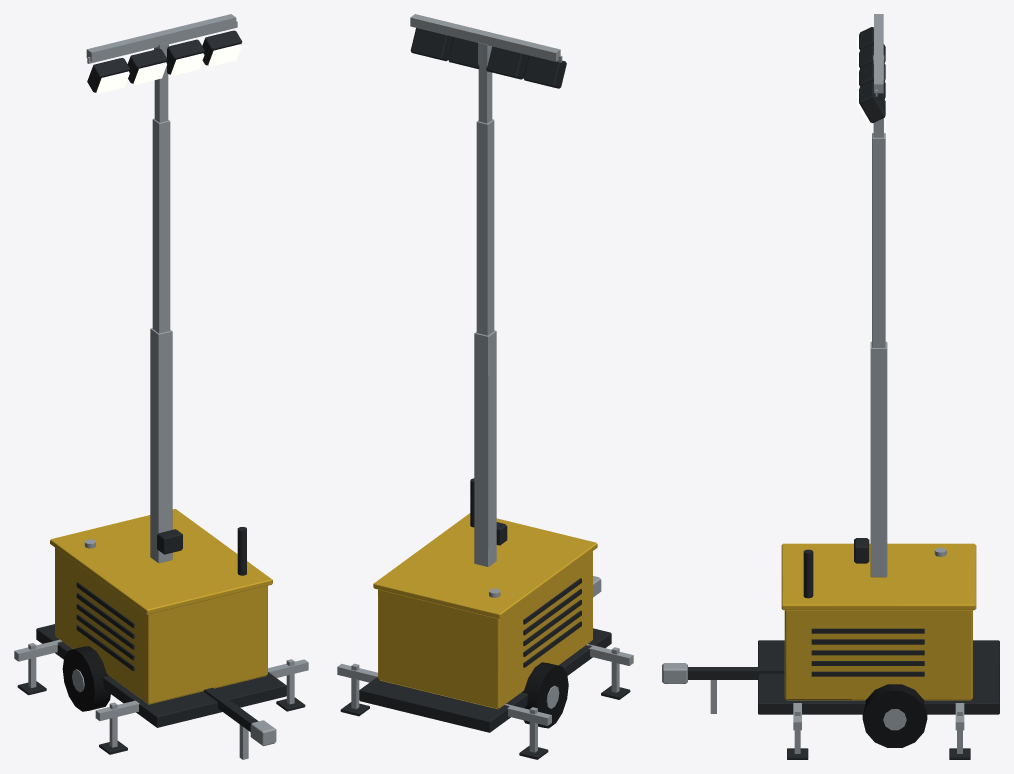
The model's file is light-tower.glb.
3 views of the same model, side by side, from view 1: azimuth 30°, elevation 25°; view 2: azimuth 150°, elevation 25°; view 3: azimuth 270°, elevation 25° (orthographic).
Parts seen in each view (by area): view 1: light-tower; view 2: light-tower; view 3: light-tower.
Boxes of the visible parts, x1,y1,x2,y2 form: light-tower: (14,14,308,759); light-tower: (337,14,633,759); light-tower: (662,14,999,759).
Bounding box in the file's own units: 2.24 × 6.81 × 3.14.
